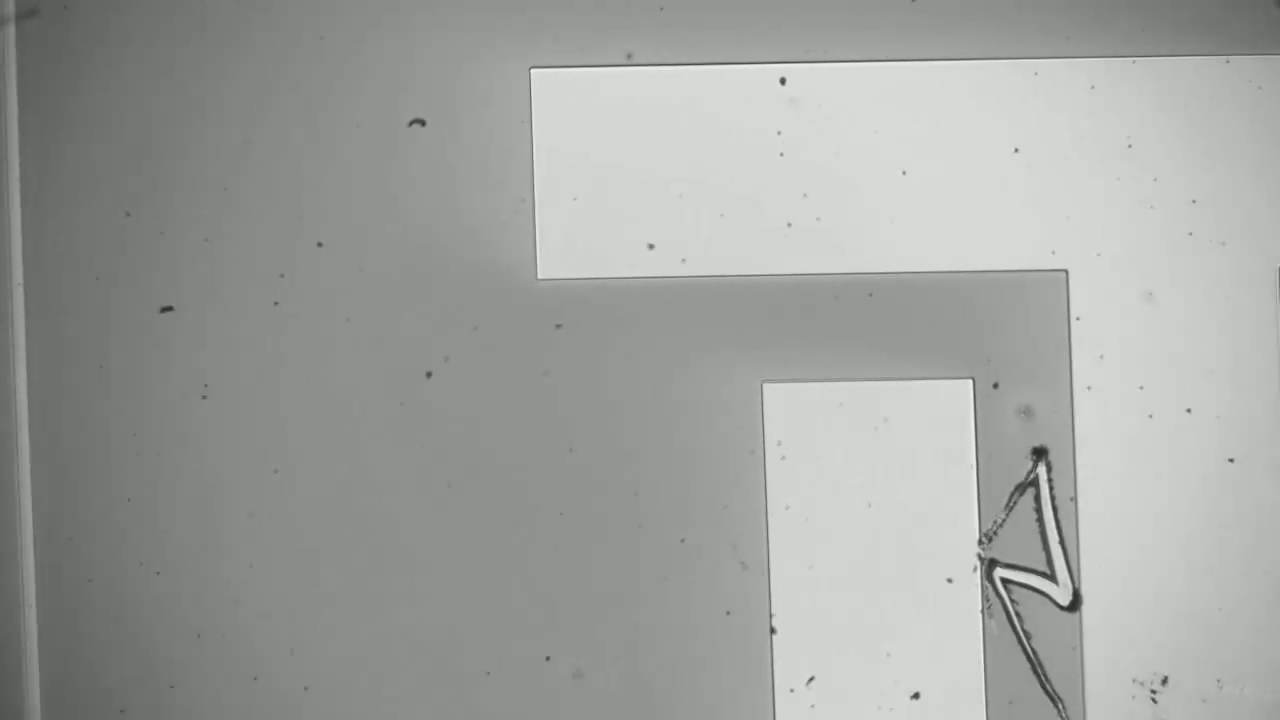Short_circuit: (949, 538, 1109, 631)
